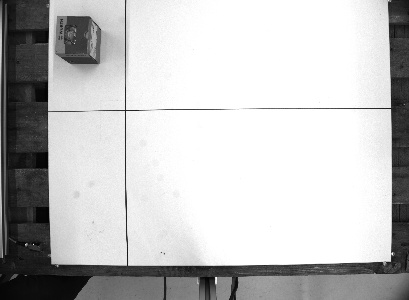b7: (52, 12, 102, 66)
